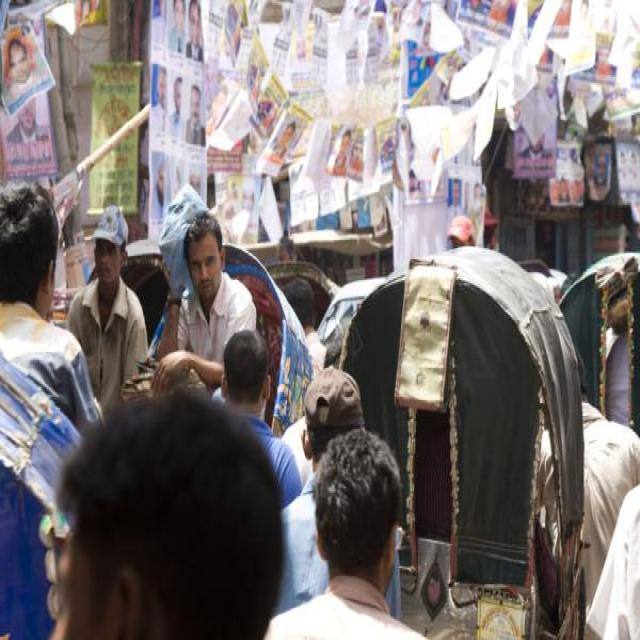Rickshaw: (341, 249, 591, 640)
